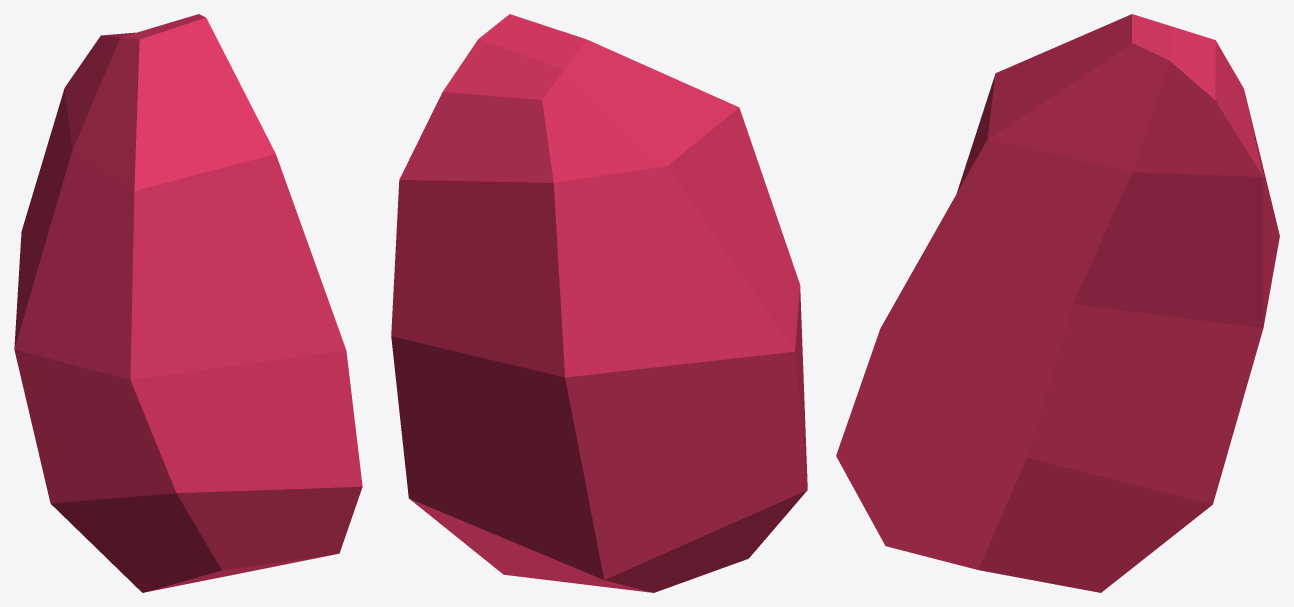
Rendered from Right_lung.glb.
3 views of the same model, side by side, from view 1: azimuth 30°, elevation 25°; view 2: azimuth 150°, elevation 25°; view 3: azimuth 270°, elevation 25° (orthographic). The views are drawn at different scales.
Visible parts, largest first — view 1: Cube; view 2: Cube; view 3: Cube.
Boxes of the visible parts, x1=… form: Cube: x1=14, y1=14, x2=362, y2=592; Cube: x1=391, y1=14, x2=807, y2=592; Cube: x1=836, y1=14, x2=1279, y2=592.
Size of the model in its own units: 4.54 by 8.06 by 6.01.
Materials: 1 (1 with a texture image).
